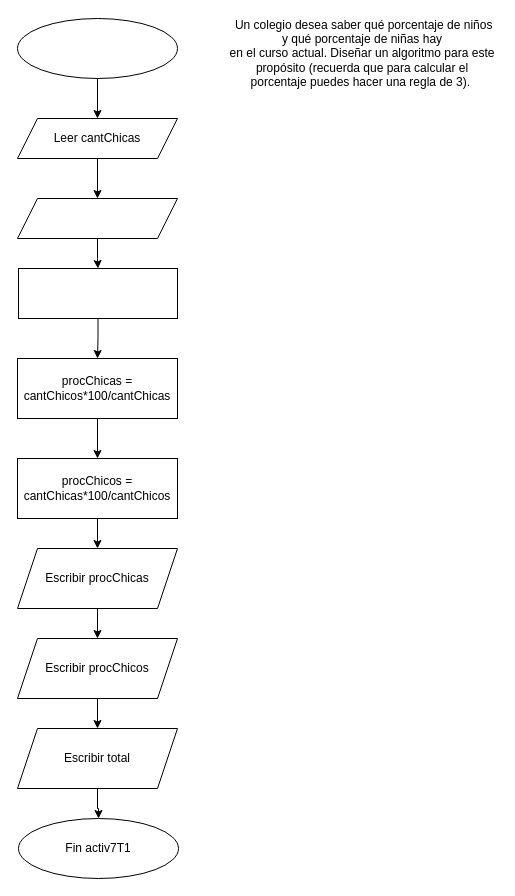
The diagram is 515 pixels wide and 896 high, and some of its shapes have lost their labels. The shapes that lost their labels are listed below. From the top down, each one's centre as x and y in pixels, then its label:
At point (97, 48): "Inicio activ7T1".
At point (97, 218): "Leer cantChicos".
At point (98, 293): "total = cantChicas + cantChicos".
